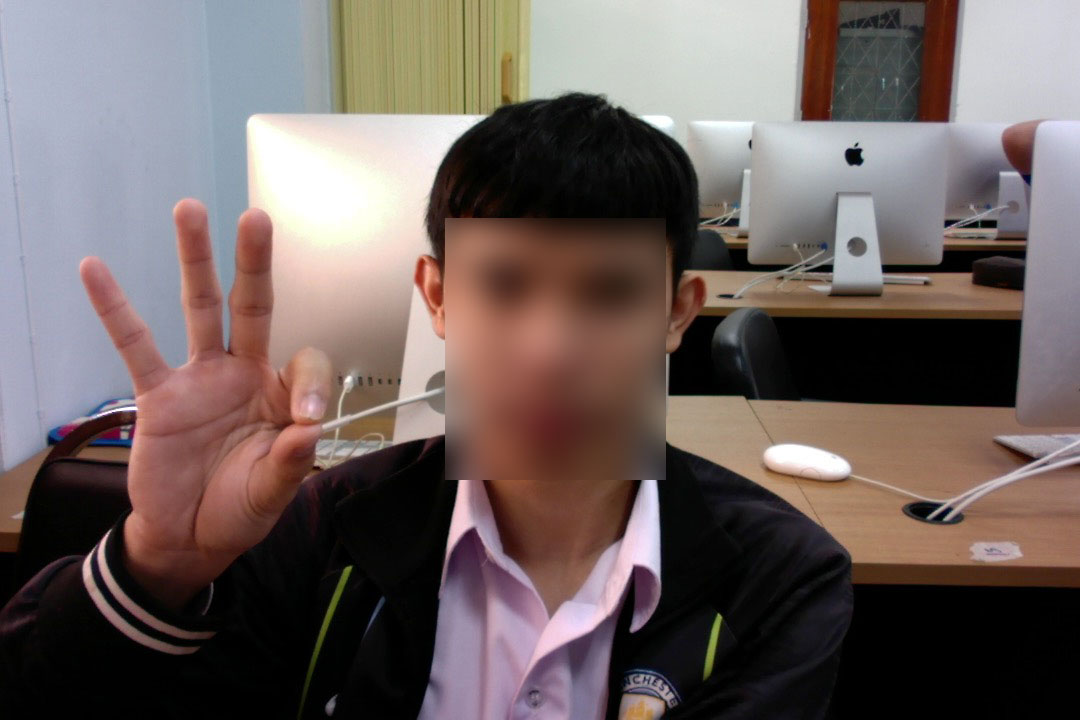for: (49, 165, 356, 622)
